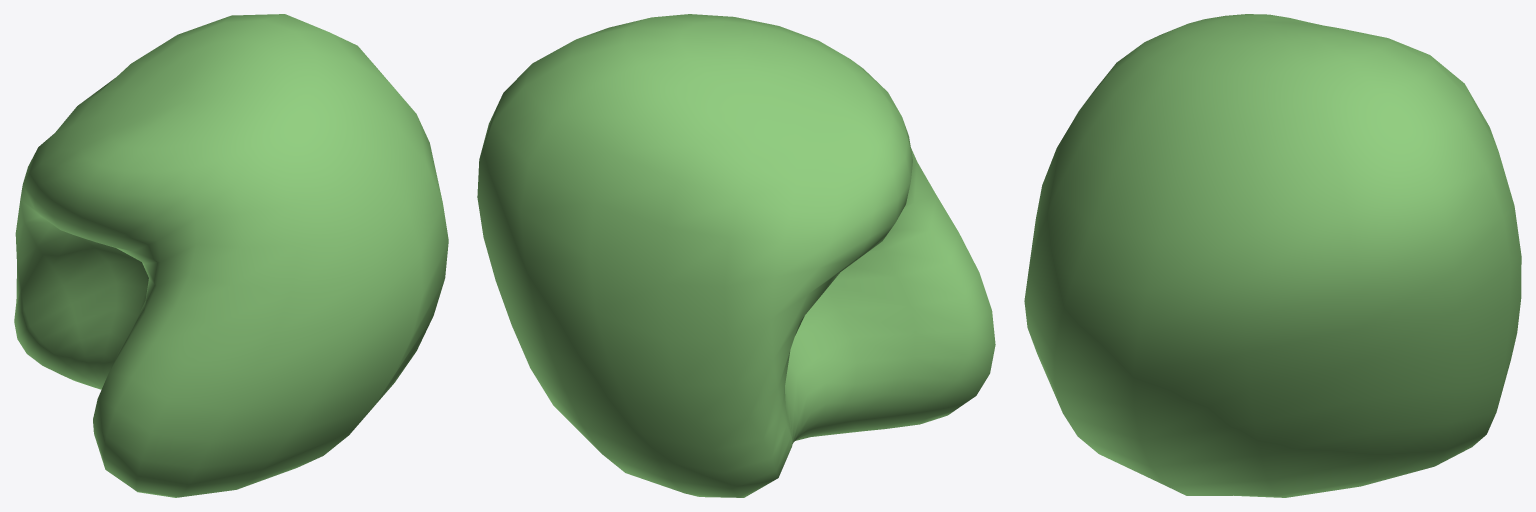
The model's file is Mesh_Blattwerk_2.fbx.
3 views of the same model, side by side, from view 1: azimuth 30°, elevation 25°; view 2: azimuth 150°, elevation 25°; view 3: azimuth 270°, elevation 25° (orthographic). The views are drawn at different scales.
Parts seen in each view (by area): view 1: Blattwerk3; view 2: Blattwerk3; view 3: Blattwerk3.
Boxes of the visible parts, x1,y1,x2,y2 form: Blattwerk3: (14,14,448,497); Blattwerk3: (477,14,995,497); Blattwerk3: (1024,14,1521,497).
Bounding box in the file's own units: 12.87 × 12.29 × 12.19.
